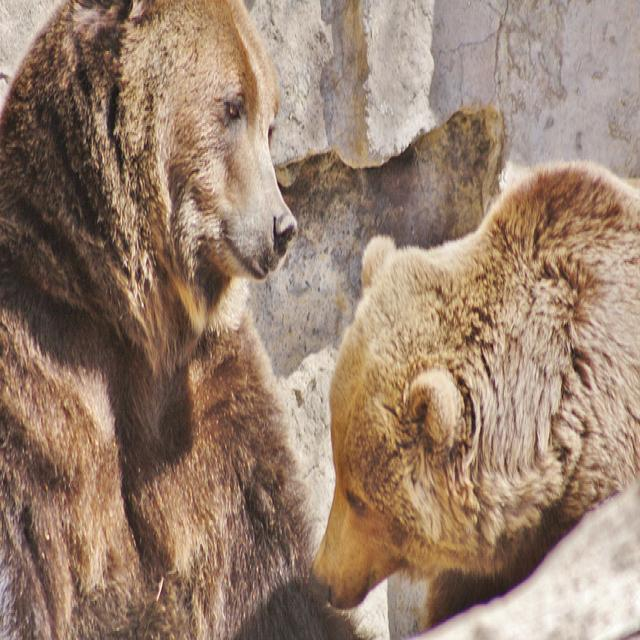Bear: (0, 1, 316, 640), (332, 155, 640, 613)
